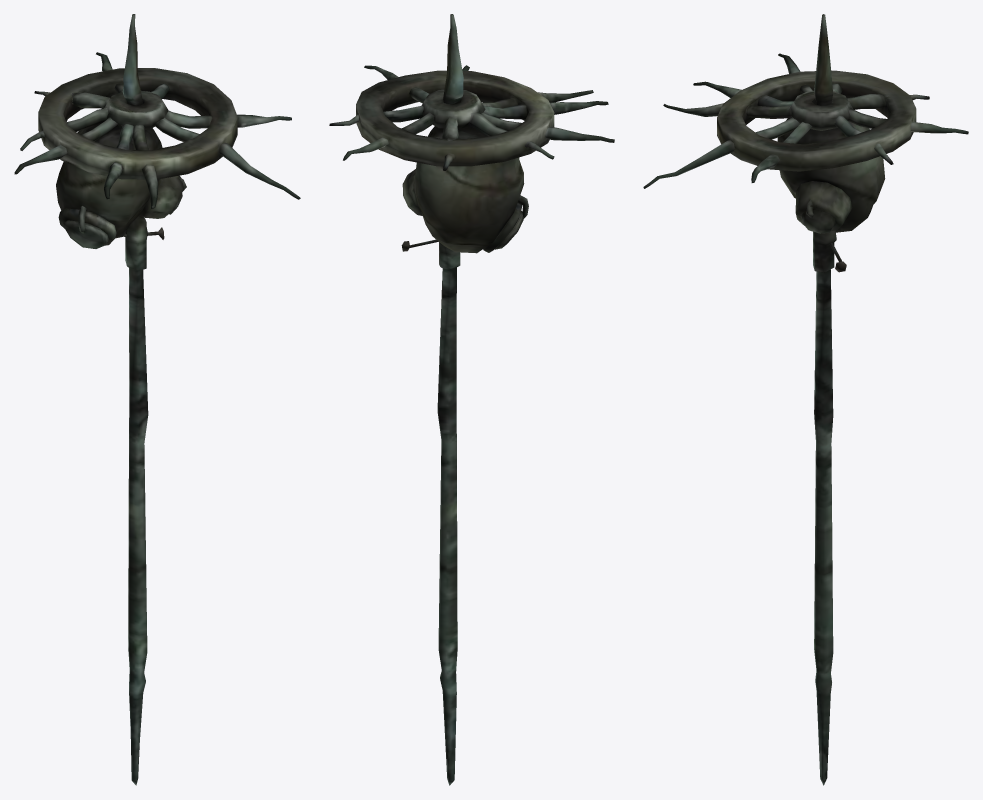
The model's file is weapon-pinwheel-staff.glb.
The picture shows the model from 3 angles, left to right: view 1: azimuth 30°, elevation 25°; view 2: azimuth 150°, elevation 25°; view 3: azimuth 270°, elevation 25°; orthographic projection.
Parts seen in each view (by area): view 1: staff2hC_MDL_q; view 2: staff2hC_MDL_q; view 3: staff2hC_MDL_q.
Boxes of the visible parts, x1,y1,x2,y2 form: staff2hC_MDL_q: [14, 14, 300, 785]; staff2hC_MDL_q: [329, 14, 614, 785]; staff2hC_MDL_q: [643, 14, 968, 785].
Bounding box in the file's own units: 0.923 × 2.58 × 0.9893.
1 material, 1 textured.
